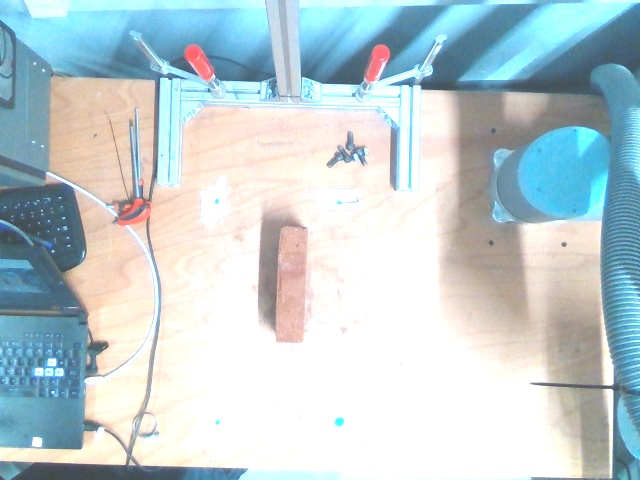brick-side: (272, 226, 309, 345)
